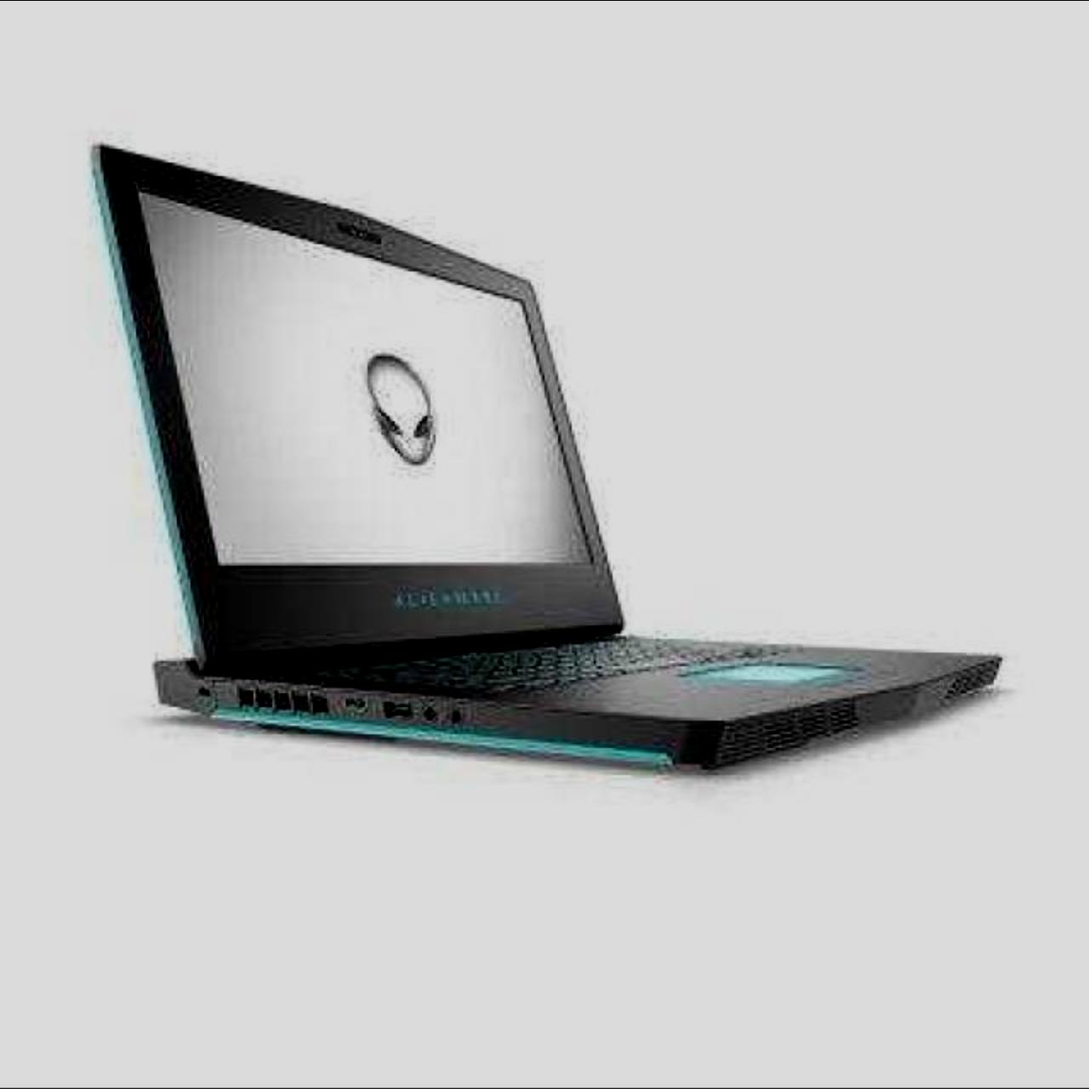laptop: (87, 155, 1016, 764)
